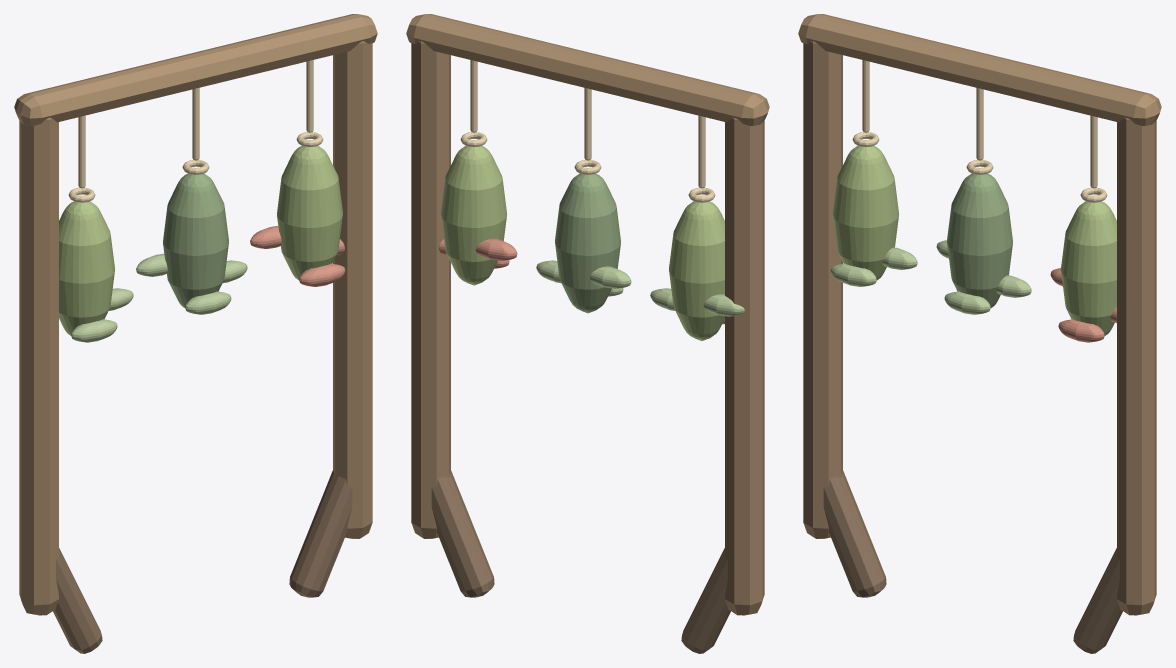
Rendered from drying_rack.glb.
The picture shows the model from 3 angles, left to right: view 1: azimuth 30°, elevation 25°; view 2: azimuth 150°, elevation 25°; view 3: azimuth 330°, elevation 25°; orthographic projection.
Visible parts, largest first — view 1: PostL, PostR, Beam, Bundle3Body, Bundle2Body, Bundle1Body, BraceR, BraceL, Bundle2Leaf2, Bundle3Leaf2, Bundle1Leaf2, Bundle1Rope (+4 smaller); view 2: PostL, PostR, Beam, Bundle2Body, Bundle3Body, Bundle1Body, BraceR, BraceL, Bundle2Leaf1, Bundle3Leaf1, Bundle1Leaf1, Bundle1Rope (+2 smaller); view 3: PostR, PostL, Beam, Bundle2Body, Bundle1Body, Bundle3Body, BraceL, BraceR, Bundle1Leaf2, Bundle2Leaf2, Bundle3Leaf2, Bundle2Leaf0 (+4 smaller).
Part boxes in pixels (box(x1,y1,x2,y2)): PostL: box(19, 117, 58, 615); PostR: box(333, 41, 372, 538); Beam: box(14, 14, 377, 126); Bundle3Body: box(277, 145, 342, 280); Bundle2Body: box(163, 173, 228, 307); Bundle1Body: box(59, 201, 114, 335); BraceR: box(289, 470, 352, 597); BraceL: box(53, 548, 102, 653); Bundle2Leaf2: box(185, 291, 231, 314); Bundle3Leaf2: box(299, 263, 345, 286); Bundle1Leaf2: box(71, 319, 117, 342); Bundle1Rope: box(78, 115, 85, 188); PostL: box(725, 117, 764, 615); PostR: box(411, 41, 450, 538); Beam: box(406, 14, 769, 126); Bundle2Body: box(555, 173, 620, 313); Bundle3Body: box(441, 145, 506, 285); Bundle1Body: box(669, 201, 724, 340); BraceR: box(431, 470, 494, 597); BraceL: box(681, 548, 730, 653); Bundle2Leaf1: box(589, 266, 631, 288); Bundle3Leaf1: box(475, 238, 517, 260); Bundle1Leaf1: box(703, 294, 744, 316); Bundle1Rope: box(698, 115, 705, 188); PostR: box(1117, 117, 1156, 615); PostL: box(803, 41, 842, 538); Beam: box(798, 14, 1161, 126); Bundle2Body: box(947, 173, 1012, 307); Bundle1Body: box(833, 145, 898, 280); Bundle3Body: box(1061, 201, 1116, 335); BraceL: box(823, 470, 886, 597); BraceR: box(1073, 548, 1122, 653); Bundle1Leaf2: box(830, 263, 876, 286); Bundle2Leaf2: box(944, 291, 990, 314); Bundle3Leaf2: box(1058, 319, 1104, 342); Bundle2Leaf0: box(996, 275, 1031, 297).
Size of the model in its own units: 0.5 by 0.7614 by 0.0851.
